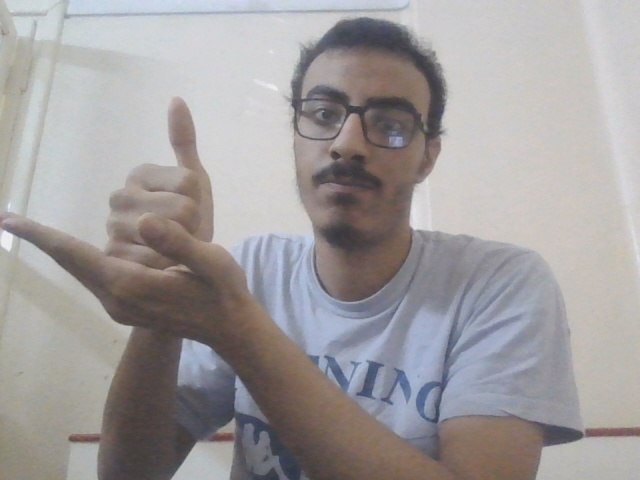Help: (1, 93, 265, 343)
